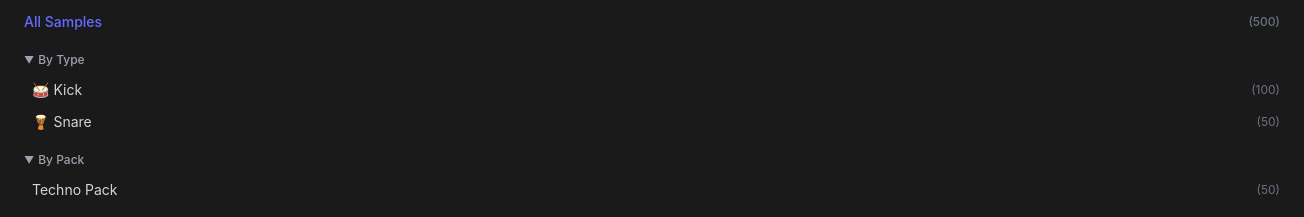
Test: PackTree › collapses By Pack section when header clicked
The image size is (1304, 217).
Expected: the text "Techno Pack" is shown, [32, 180, 118, 200]
Click the text "By Pack". click: [61, 160]
box: [38, 152, 84, 168]
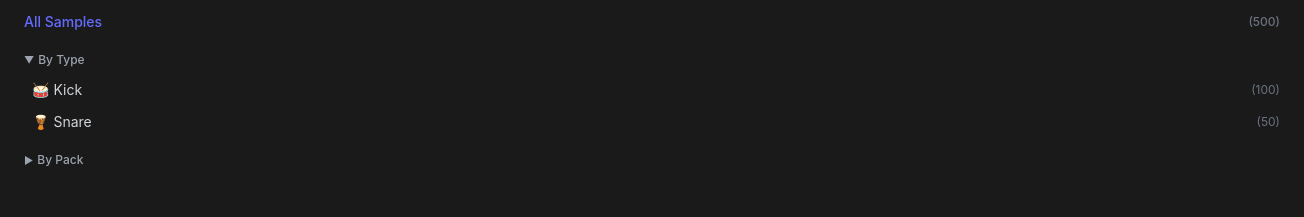
Expected: the button "Techno Pack" is gone
